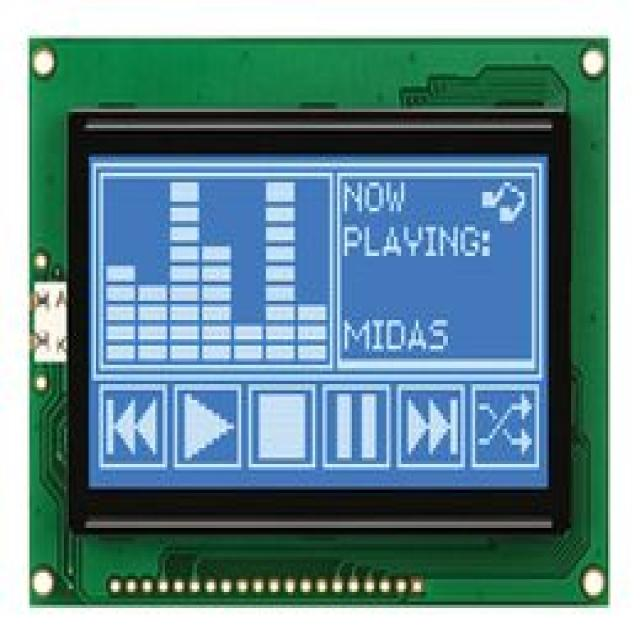Display: (23, 36, 624, 610)
